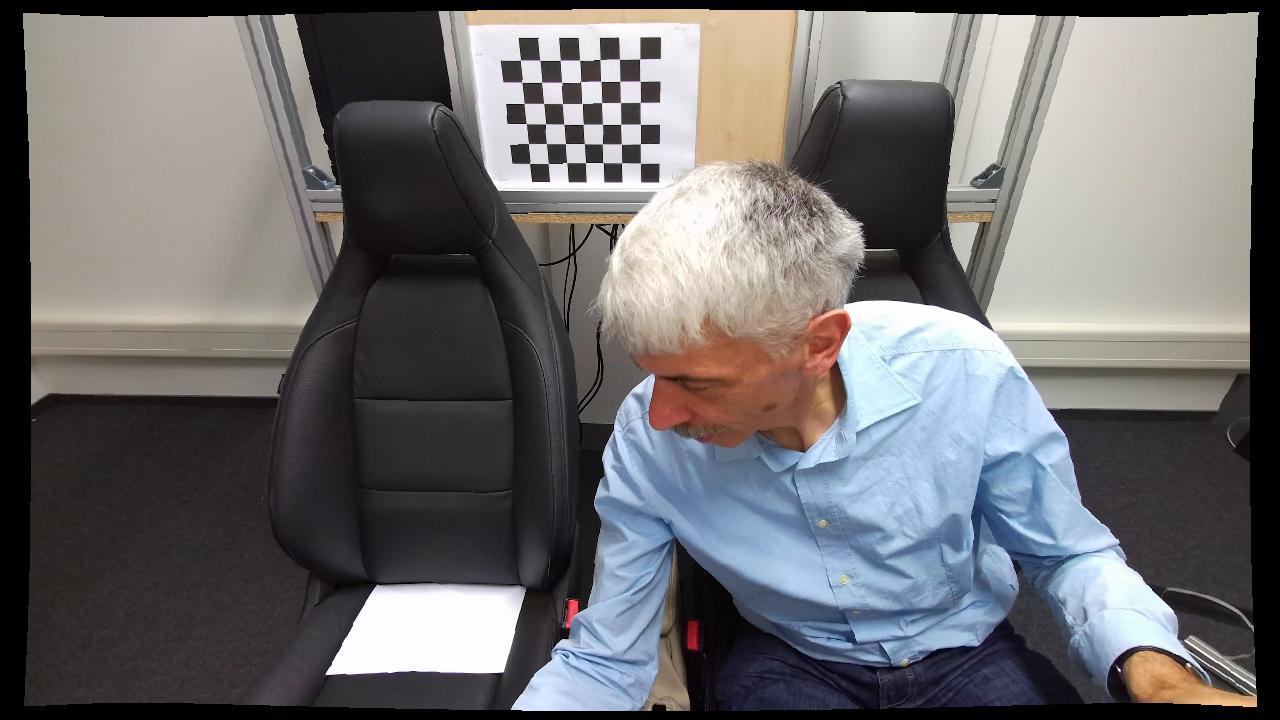Distracted: (510, 153, 1070, 709)
